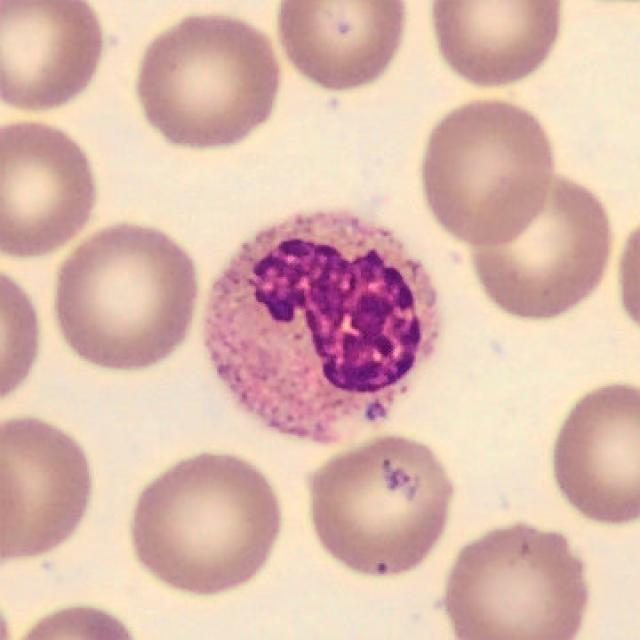Neutrofilo segmentado: (206, 215, 436, 440)
